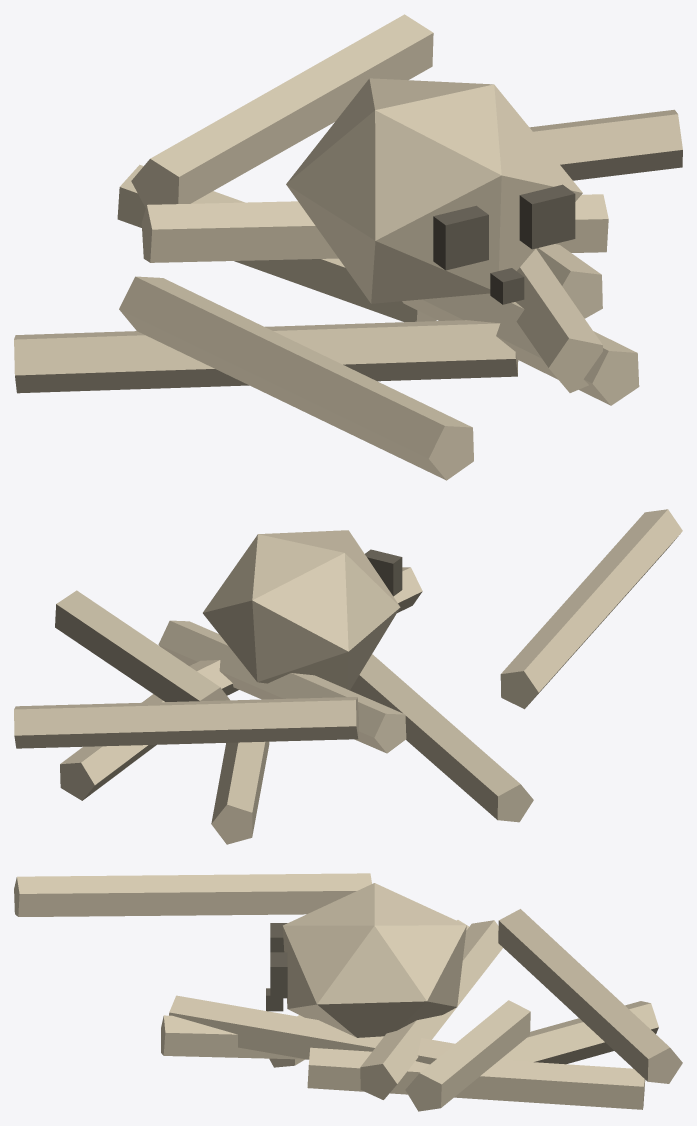
Rendered from mas-ossos.gltf.
3 views of the same model, one above another, from view 1: azimuth 30°, elevation 25°; view 2: azimuth 150°, elevation 25°; view 3: azimuth 270°, elevation 25° (orthographic). The views are drawn at different scales.
Visible parts, largest first — view 1: mas-ossos; view 2: mas-ossos; view 3: mas-ossos.
Part boxes in pixels (left/top/right/bottom): mas-ossos: left=14, top=14, right=682, bottom=480; mas-ossos: left=14, top=509, right=682, bottom=844; mas-ossos: left=14, top=873, right=682, bottom=1111.
Size of the model in its own units: 0.6115 by 0.2363 by 0.7707.
